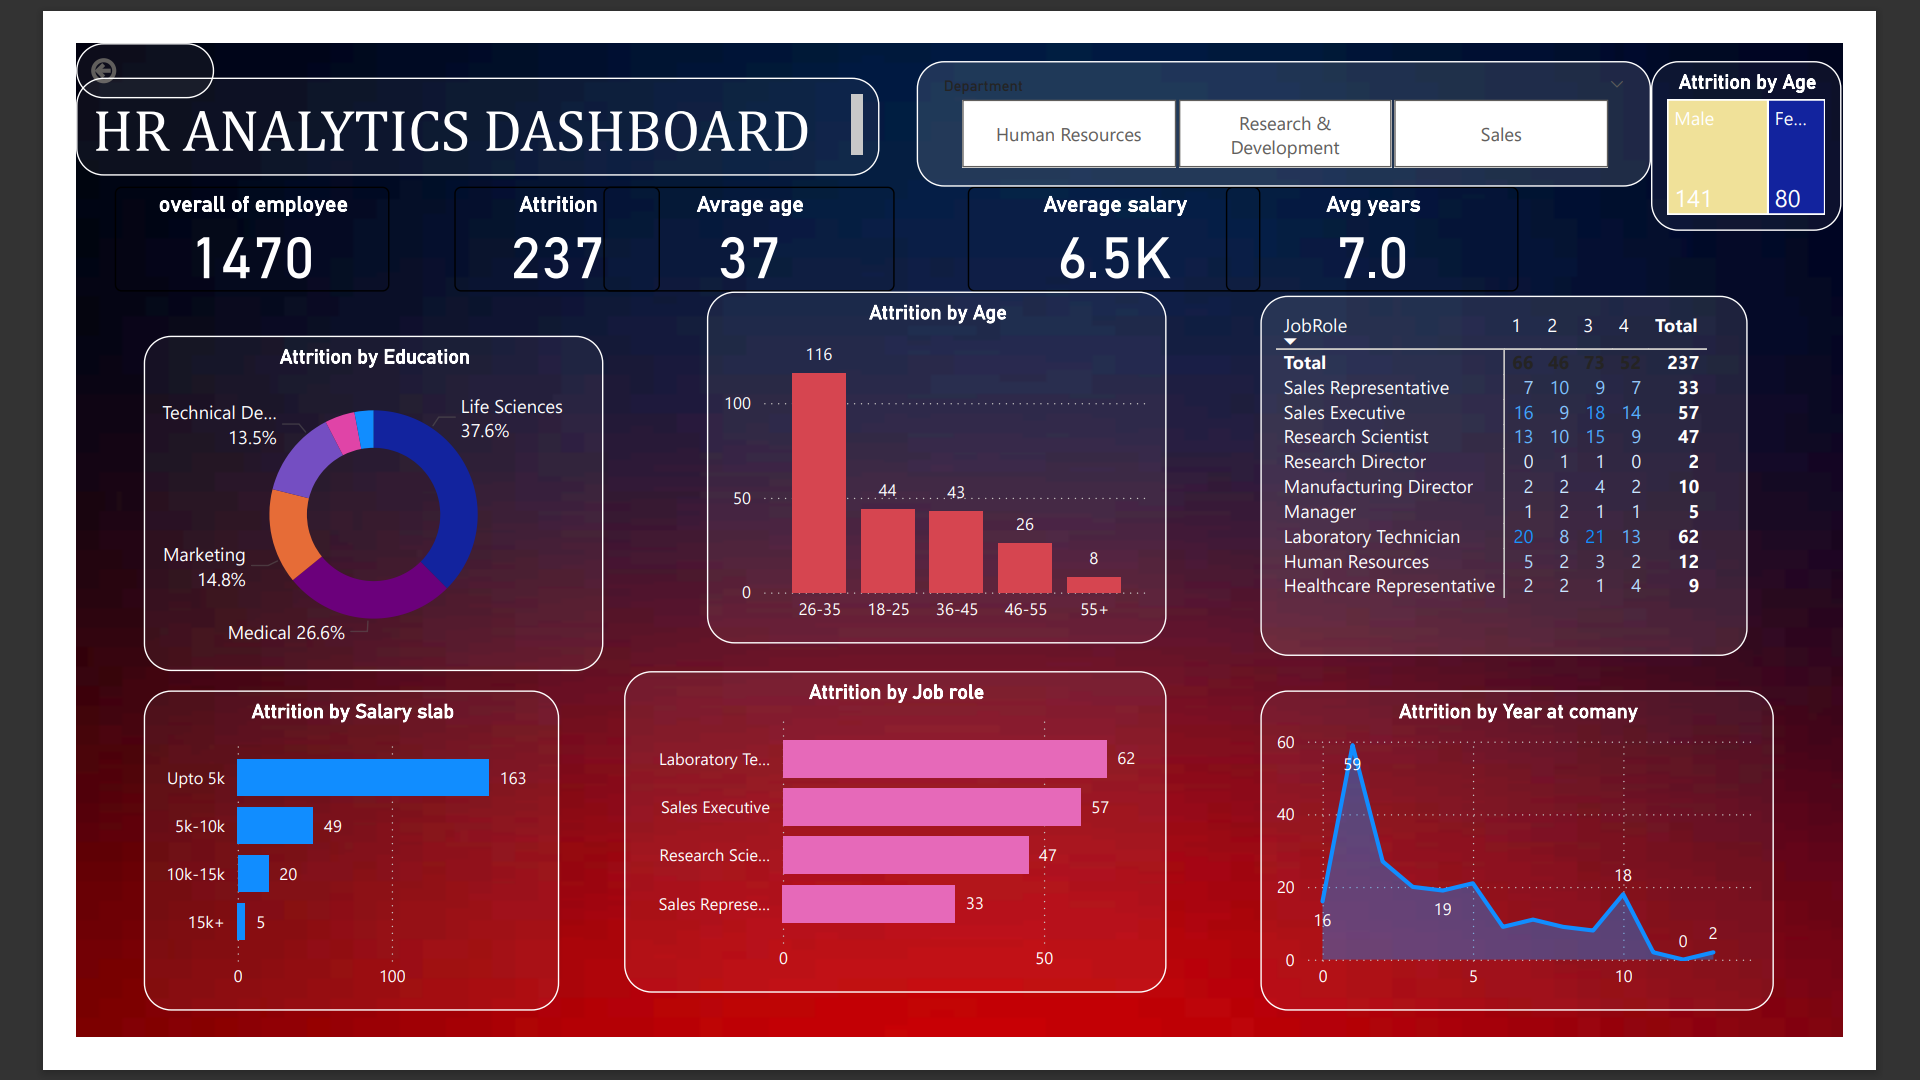

This screenshot's page, from the dashboard's own definition file:
{"tool":"powerbi","page":{"name":"Page 1","canvas":[1280,720],"ordinal":0},"visuals":[{"type":"card","title":"overall of employee","fields":{"Values":["CountNonNull(HR_Analytics.EmpID)"]},"box":[28.3,103.9,198.4,75.6],"z":0},{"type":"actionButton","box":[0,0,100,40],"z":1000},{"type":"card","title":"Attrition","fields":{"Values":["Sum(HR_Analytics.AttritionCount)"]},"box":[274,103.9,149.3,75.6],"z":2000},{"type":"card","title":"Avrage age","fields":{"Values":["Avg(HR_Analytics.Age)"]},"box":[381.7,103.9,211.7,75.6],"z":3000},{"type":"card","title":"Average salary","fields":{"Values":["Avg(HR_Analytics.MonthlyIncome)"]},"box":[646.3,103.9,211.7,75.6],"z":4000},{"type":"card","title":"Avg years","fields":{"Values":["Avg(HR_Analytics.YearsAtCompany)"]},"box":[833.4,103.9,211.7,75.6],"z":5000},{"type":"donutChart","title":"Attrition by Education","fields":{"Category":["HR_Analytics.EducationField"],"Y":["Sum(HR_Analytics.AttritionCount)"]},"box":[49.1,211.7,332.6,243.8],"z":6000},{"type":"columnChart","title":"Attrition by Age","fields":{"Category":["HR_Analytics.AgeGroup"],"Y":["Sum(HR_Analytics.AttritionCount)"]},"box":[457.3,179.5,332.6,255.1],"z":7000},{"type":"pivotTable","fields":{"Rows":["HR_Analytics.JobRole"],"Values":["Sum(HR_Analytics.AttritionCount)"],"Columns":["HR_Analytics.JobSatisfaction"]},"box":[858,183.3,353.4,260.8],"z":8000},{"type":"barChart","title":"Attrition by Salary slab","fields":{"Category":["HR_Analytics.SalarySlab"],"Y":["Sum(HR_Analytics.AttritionCount)"]},"box":[49.1,468.7,300.5,232.4],"z":9000},{"type":"barChart","title":"Attrition by Job role","fields":{"Y":["Sum(HR_Analytics.AttritionCount)"],"Category":["HR_Analytics.JobRole"]},"box":[396.9,455.4,393.1,232.4],"z":10000},{"type":"areaChart","title":"Attrition by Year at comany","fields":{"Category":["HR_Analytics.YearsAtCompany"],"Y":["Sum(HR_Analytics.AttritionCount)"]},"box":[858,468.7,372.3,232.4],"z":11000},{"type":"treemap","title":"Attrition by Age","fields":{"Group":["HR_Analytics.Gender"],"Values":["Sum(HR_Analytics.AttritionCount)"]},"box":[1141.4,13.2,138,122.8],"z":12000},{"type":"slicer","fields":{"Values":["HR_Analytics.Department"]},"box":[608.5,13.2,532.9,90.7],"z":13000},{"type":"textbox","box":[0,24.6,582.1,71.8],"z":13001}]}

Visuals, with their boxes in screenshot pixels (x1, y1, x2, y2), scaled from the page's 1280x720 canvas onto the 1920x1080 screenshot:
"overall of employee" card: box(42, 156, 340, 269)
actionButton: box(0, 0, 150, 60)
"Attrition" card: box(411, 156, 635, 269)
"Avrage age" card: box(573, 156, 890, 269)
"Average salary" card: box(969, 156, 1287, 269)
"Avg years" card: box(1250, 156, 1568, 269)
"Attrition by Education" donutChart: box(74, 318, 573, 683)
"Attrition by Age" columnChart: box(686, 269, 1185, 652)
pivotTable - HR_Analytics.JobRole x Sum(HR_Analytics.AttritionCount): box(1287, 275, 1817, 666)
"Attrition by Salary slab" barChart: box(74, 703, 524, 1052)
"Attrition by Job role" barChart: box(595, 683, 1185, 1032)
"Attrition by Year at comany" areaChart: box(1287, 703, 1845, 1052)
"Attrition by Age" treemap: box(1712, 20, 1919, 204)
slicer - HR_Analytics.Department: box(913, 20, 1712, 156)
textbox: box(0, 37, 873, 145)
